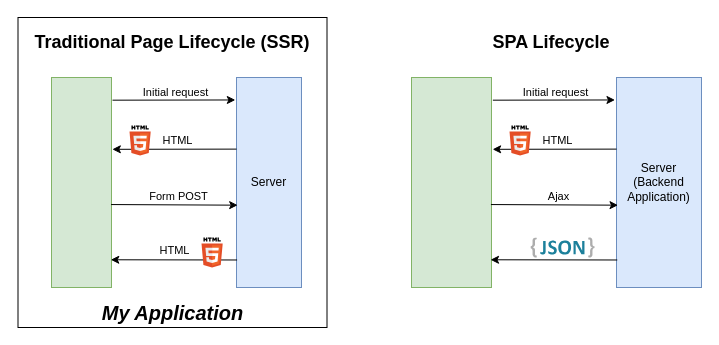
Some shapes in this 719 by 345 pixel diagram are drawn without their labels. The shapes that lost their labels are listed below. From the top down, each one's centre as x and y in pixels, then its label:
At (81,182): "Client".
At (451,182): "Client (Frontend Application)".
